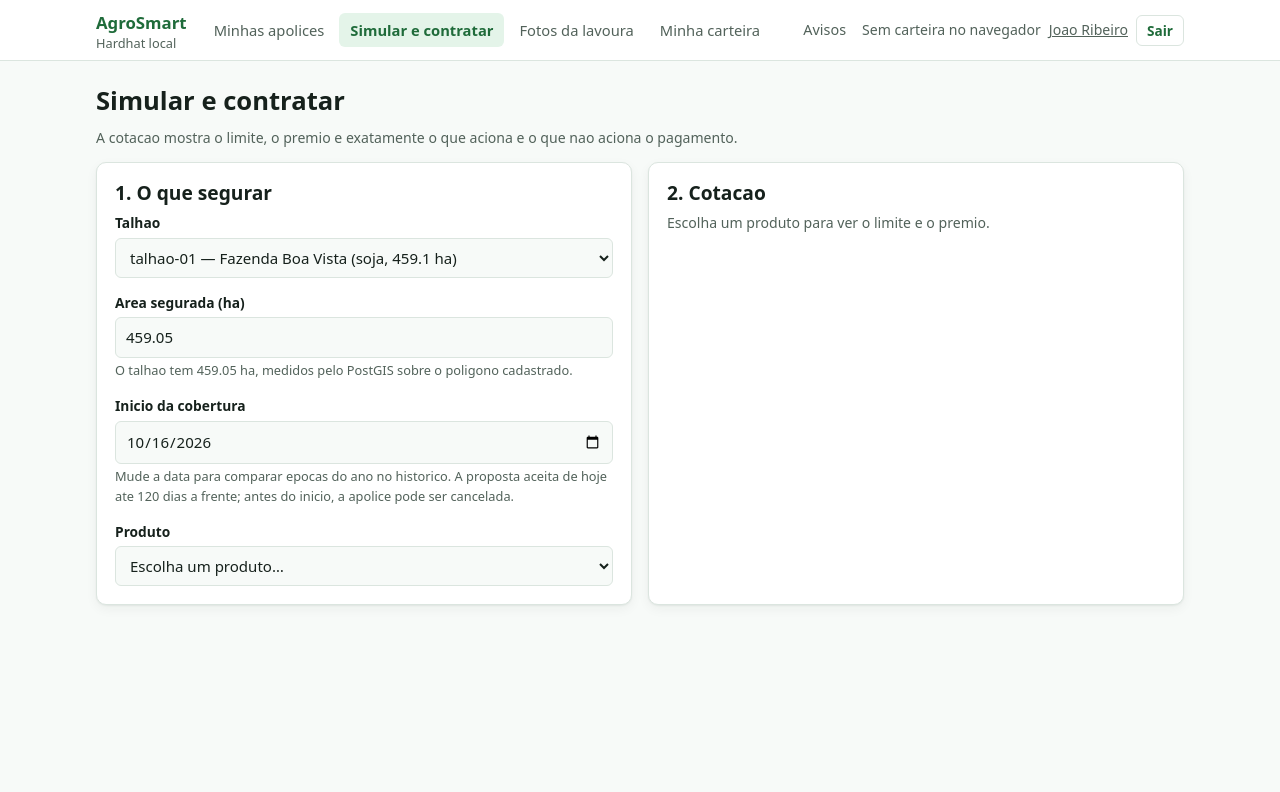
Scenario: cotacao e contratacao (RF06, RNF04, HU10) › produto por dano explica que nao ha historico publico
Select "Estiagem escalonada — soja" in the dropdown labelled "Produto" at coordinates (364, 566), box [115,546,613,586]
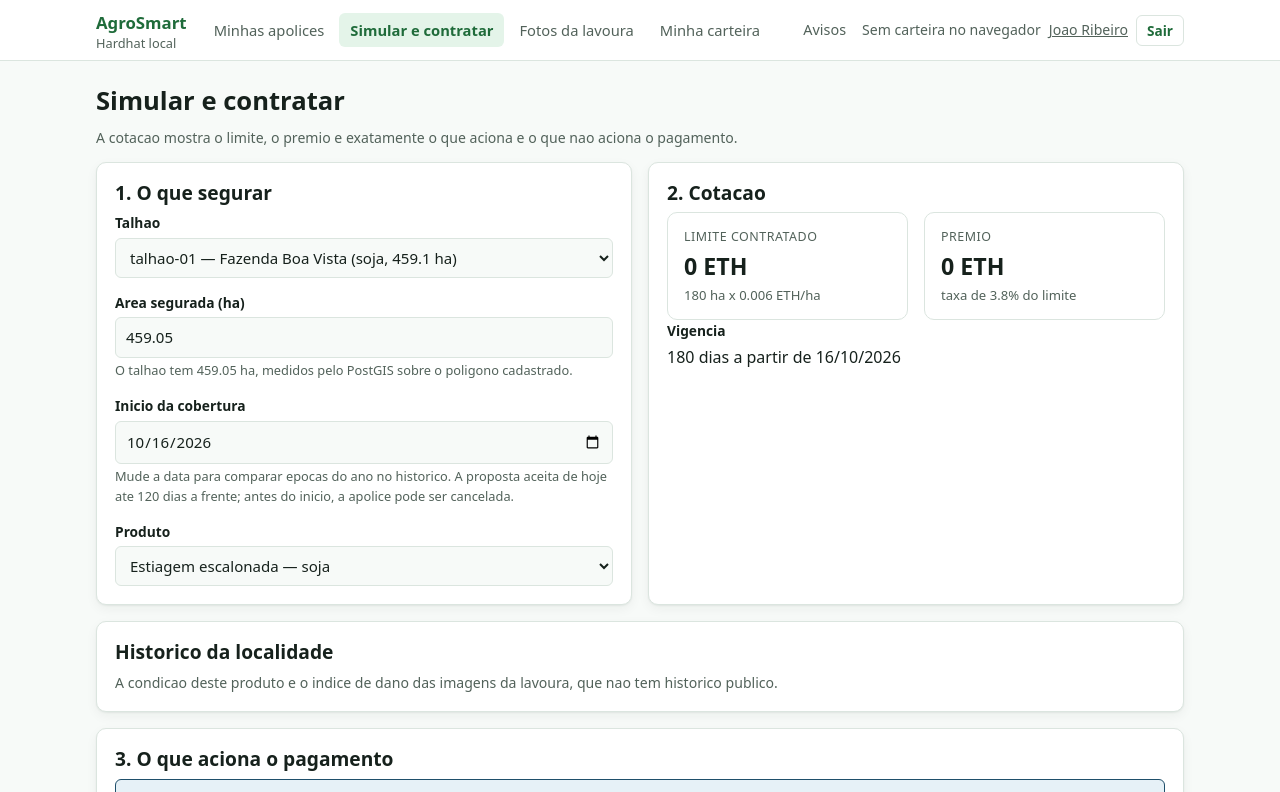
Now the text "nao tem historico publico" is shown, box [115,672,778,692]
